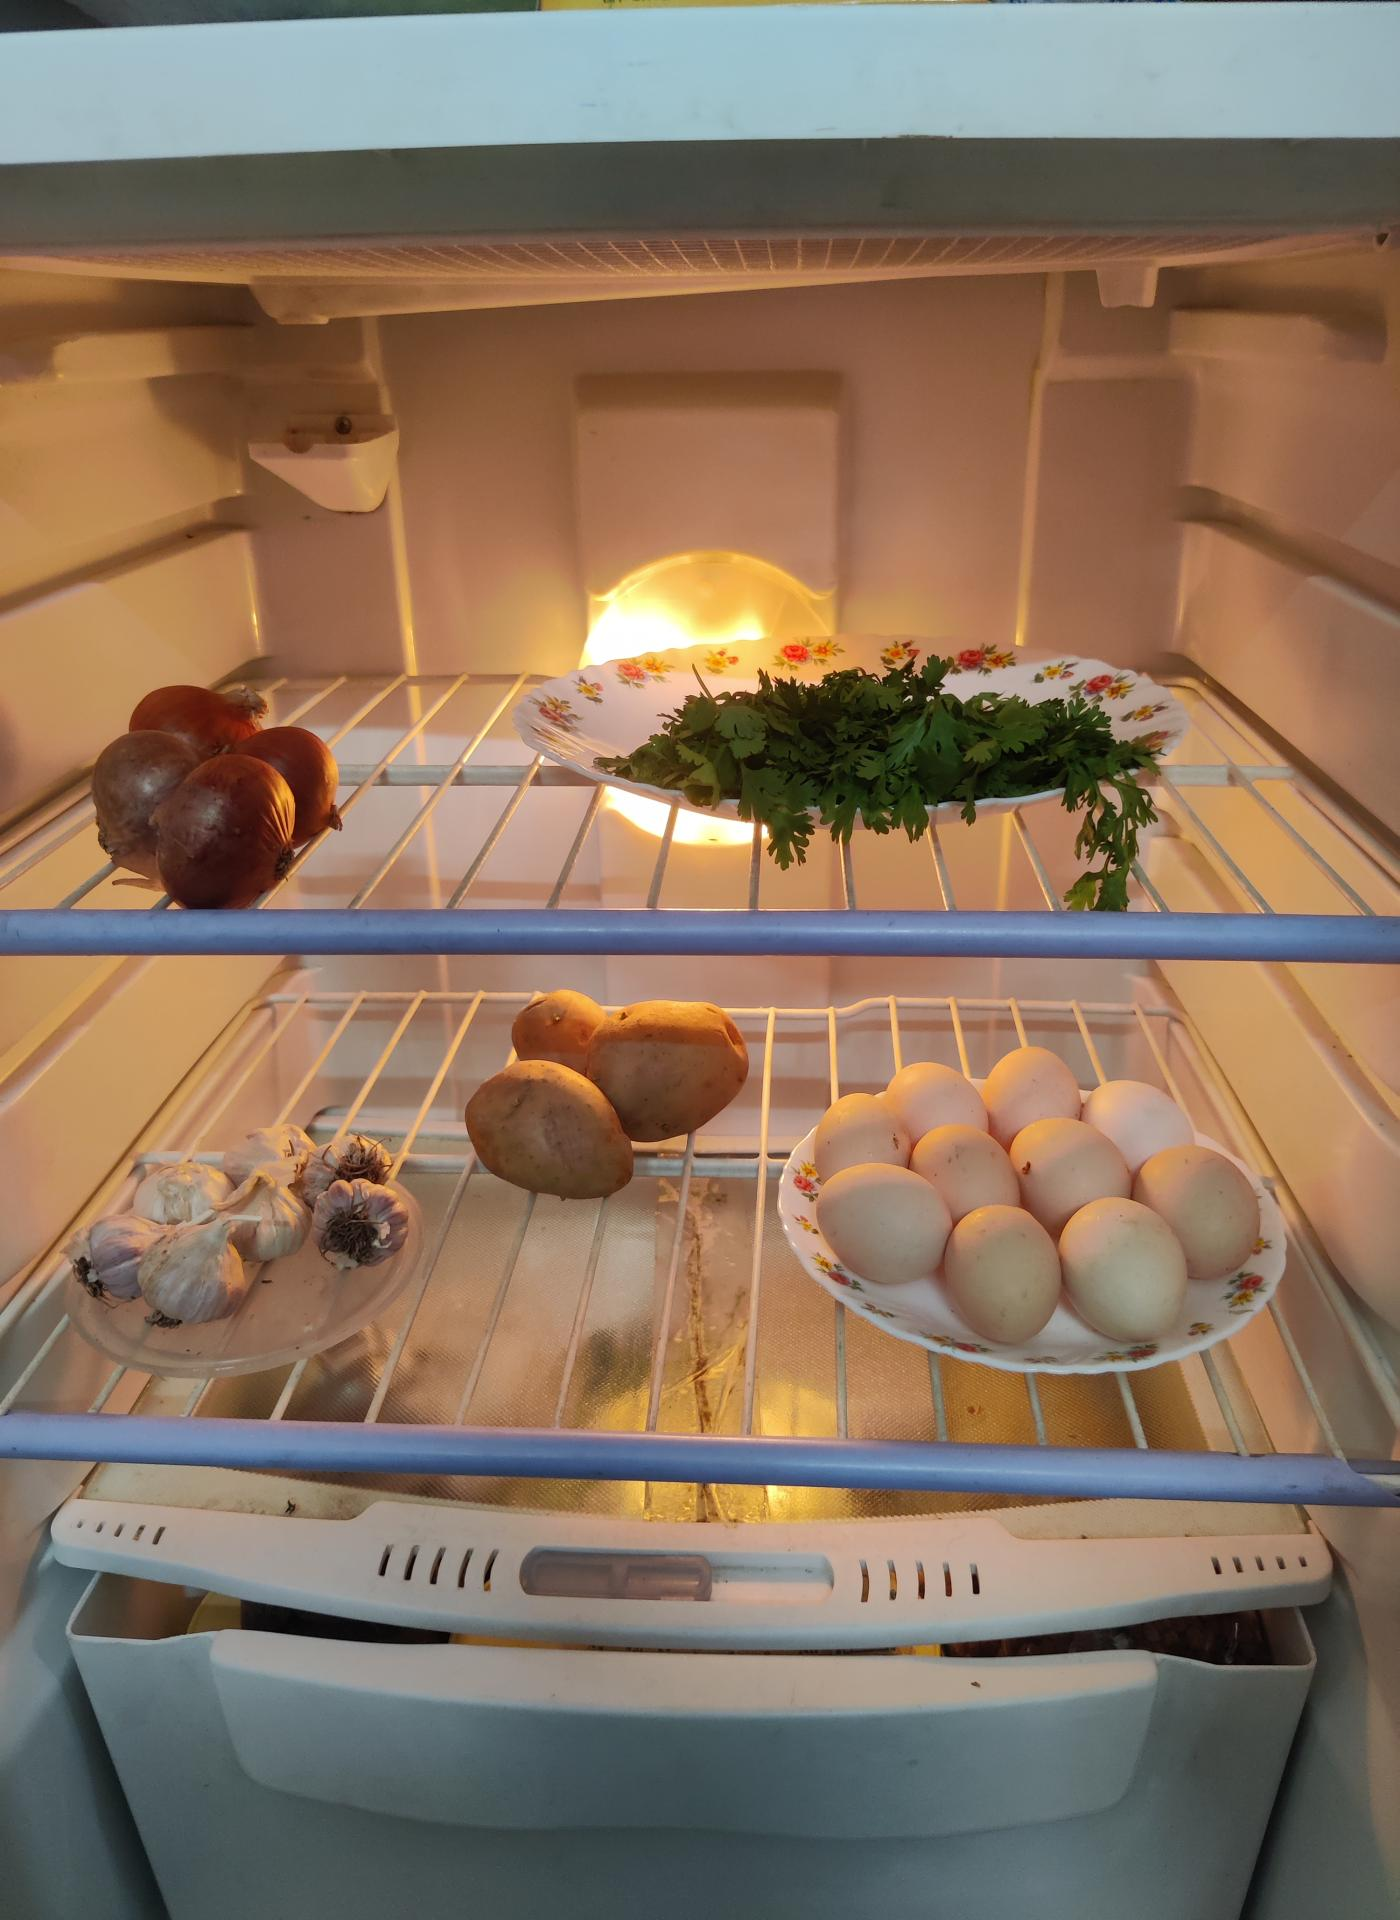coriander: (604, 654, 1182, 821)
egg: (792, 1045, 1261, 1346)
garlic: (76, 1111, 403, 1322)
onion: (89, 686, 340, 906)
potato: (455, 985, 760, 1182)
